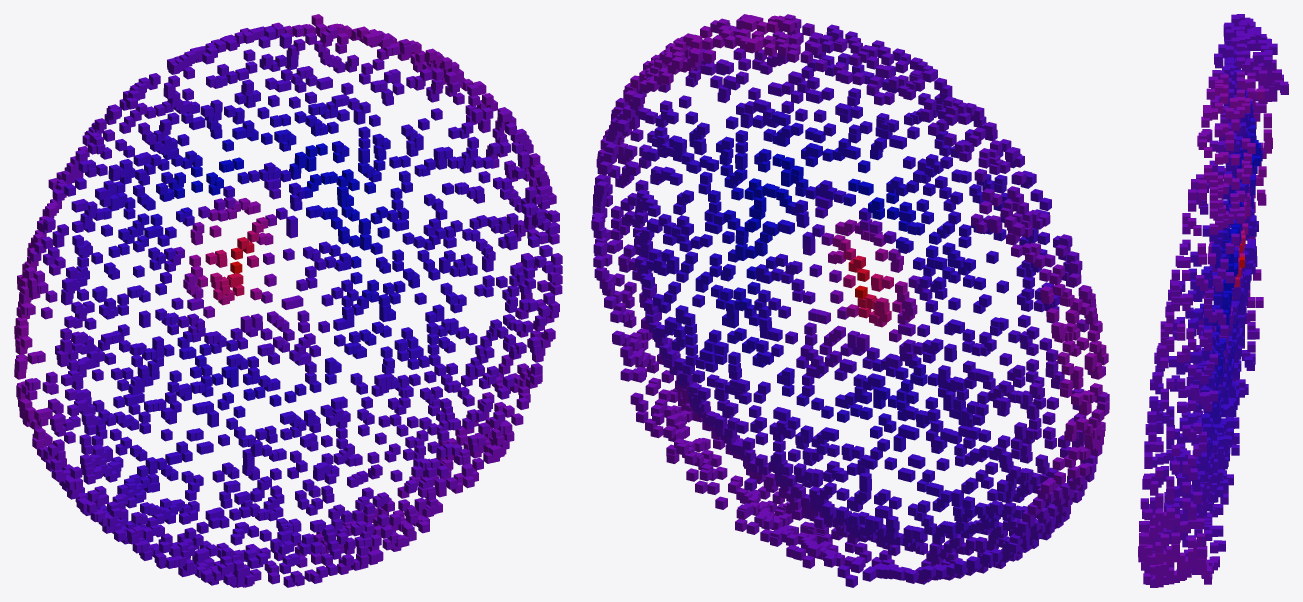
File: heatmap.glb
3 views of the same model, side by side, from view 1: azimuth 30°, elevation 25°; view 2: azimuth 150°, elevation 25°; view 3: azimuth 270°, elevation 25° (orthographic). The views are drawn at different scales.
Parts seen in each view (by area): view 1: world; view 2: world; view 3: world.
Boxes of the visible parts, left/top/right/bottom form: world: left=14, top=14, right=562, bottom=587; world: left=591, top=14, right=1109, bottom=587; world: left=1138, top=14, right=1288, bottom=587.
Bounding box in the file's own units: 0.204 × 0.2041 × 0.0544.
